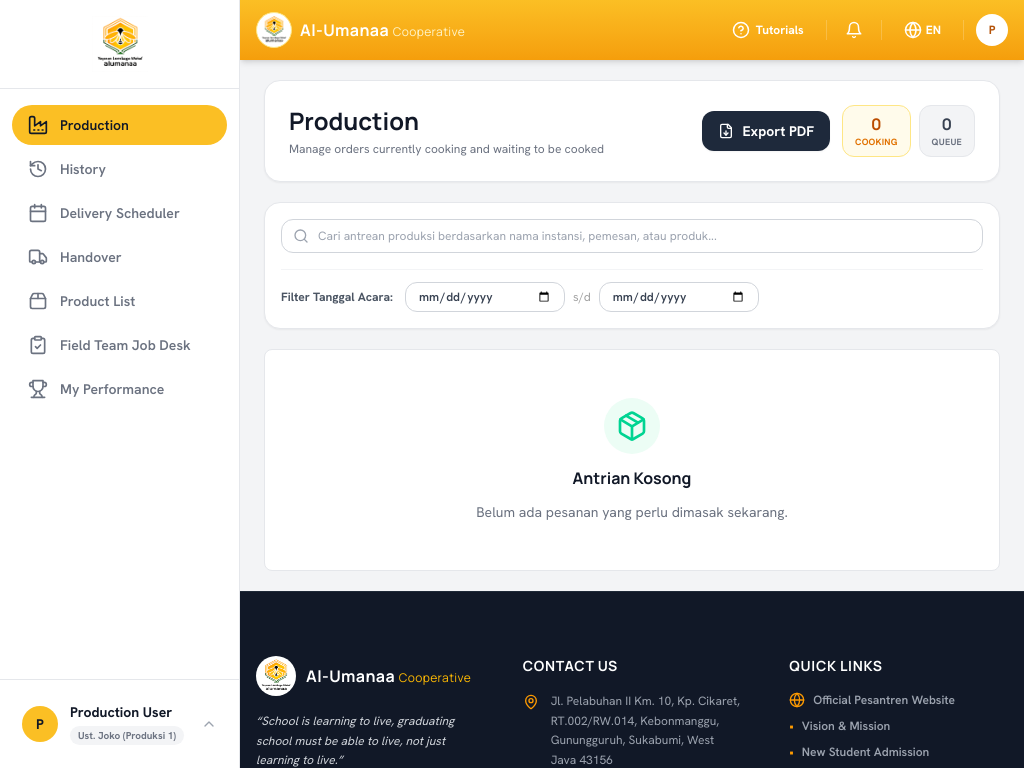
Test: Authentication UI Features › Role-Based Access Control (RBAC) Flow › should redirect and filter links for tim_produksi role
Check: the heading "Production" is shown, box [289,104,419,137]
Check: the link to "/admin/production" is shown, box [92,16,148,72]
Click the button "P" at x=992, y=30, box [976,14,1008,46]
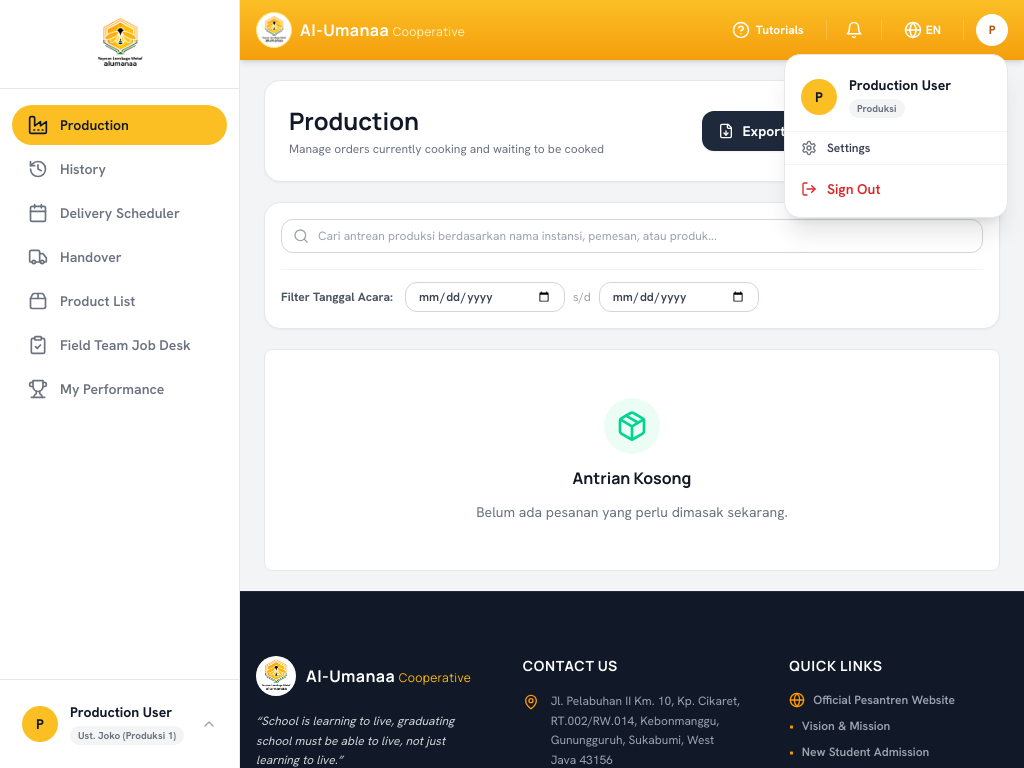
Check: the link to "/admin/settings" is shown, box [785,132,1007,165]
